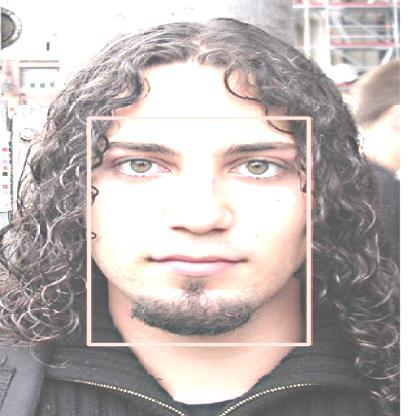without_mask: (88, 118, 308, 344)
